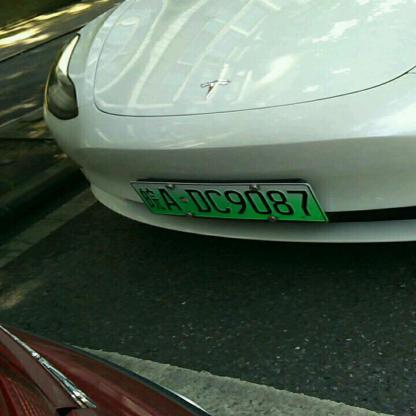lp: (131, 181, 325, 220)
